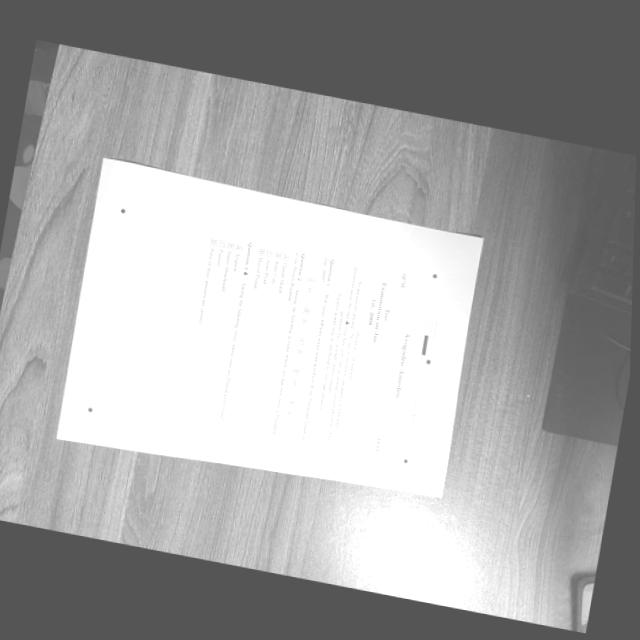Markers: (86, 407, 94, 413), (119, 208, 126, 214), (431, 274, 437, 279), (403, 458, 408, 464)
